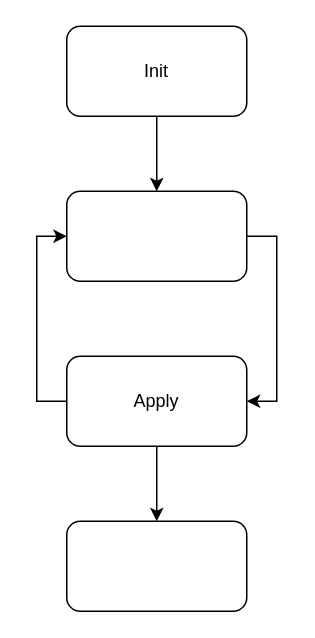
Image size: 315x638. Some labels were removed from this diagram. The shapes that lost their labels are listed below. From the top down, each one's centre as x and y in pixels, then its label:
At [156,235]: "Plan".
At [156,565]: "Destroy".
